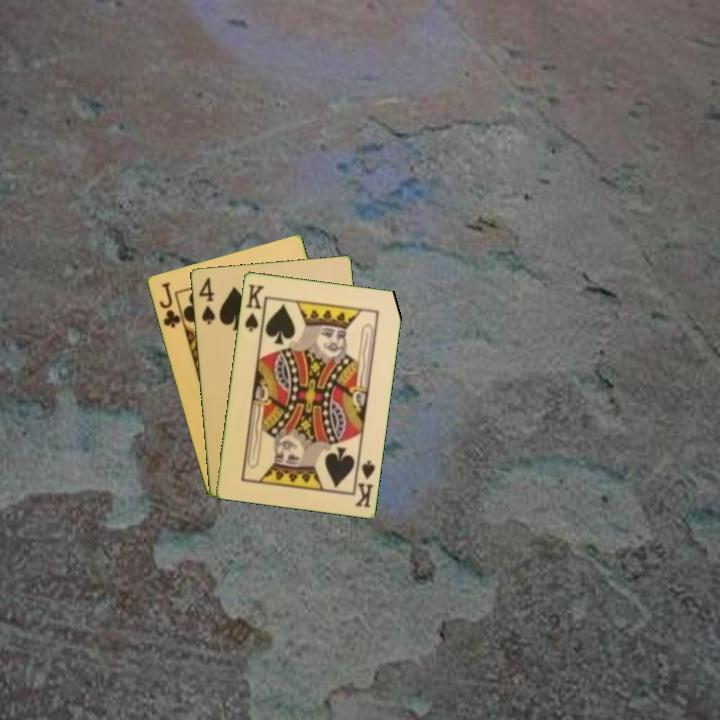4s: (195, 274, 218, 327)
Jc: (155, 279, 183, 331)
Ks: (351, 454, 378, 510), (241, 280, 267, 336)
